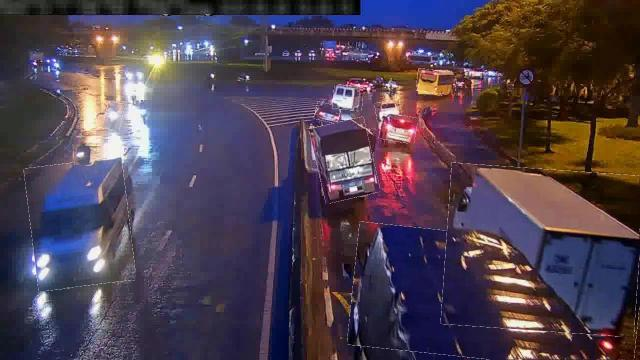Bike: (104, 102, 124, 131), (74, 136, 92, 166)
Bus: (416, 70, 456, 94), (333, 86, 363, 110)
Car: (28, 160, 132, 288), (379, 114, 416, 142), (375, 100, 401, 121), (316, 103, 340, 122)
Truck: (349, 228, 639, 360), (443, 166, 639, 334), (313, 119, 377, 201)
